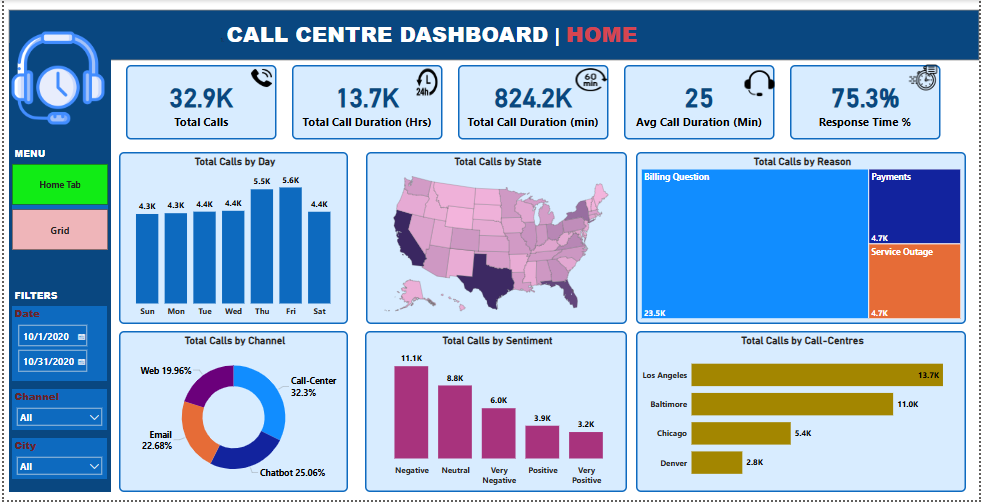

The dashboard page shown, as its layout file describes it:
{"tool":"powerbi","page":{"name":"Home Tab","canvas":[1950,1000],"ordinal":0},"visuals":[{"type":"shape","box":[10,20,1940,100],"z":0},{"type":"shape","box":[10,86,204,898],"z":1000},{"type":"card","fields":{"Values":["Call Center_Call Center.Total Calls"]},"box":[243,130,300.6,149],"z":2000},{"type":"card","fields":{"Values":["Call Center_Call Center.Total Call Duration (Hrs)"]},"box":[575.1,130,300.6,149],"z":3000},{"type":"card","fields":{"Values":["Call Center_Call Center.Total Call Duration (min)"]},"box":[907.2,130,300.6,149],"z":4000},{"type":"card","fields":{"Values":["Call Center_Call Center.Avg Call Duration (Min)"]},"box":[1239.3,130,300.6,149.4],"z":5000},{"type":"card","fields":{"Values":["Call Center_Call Center.Response Time %"]},"box":[1571.4,130,300.6,149.4],"z":6000},{"type":"image","box":[486,129.6,57.6,52.2],"z":7000},{"type":"image","box":[1803.6,120.6,68.4,70.2],"z":8000},{"type":"image","box":[820.8,129.6,52.2,68.4],"z":9000},{"type":"image","box":[1137.6,129.6,73.8,59.4],"z":10000},{"type":"image","box":[1476,133.2,70.2,64.8],"z":11000},{"type":"textbox","box":[422,32,896,74],"z":12000},{"type":"columnChart","fields":{"Category":["Date Table.Day"],"Y":["Call Center_Call Center.Total Calls"]},"box":[230,304,458,344],"z":13000},{"type":"shapeMap","fields":{"Category":["Call Center_Call Center.State"],"Value":["Call Center_Call Center.Total Calls"]},"box":[724,304,522,344],"z":14000},{"type":"treemap","fields":{"Group":["Call Center_Call Center.Reason"],"Values":["Call Center_Call Center.Total Calls"]},"box":[1264,304,660,344],"z":15000},{"type":"donutChart","fields":{"Category":["Call Center_Call Center.Channel"],"Y":["Call Center_Call Center.Total Calls"]},"box":[230,662,458,322],"z":16000},{"type":"columnChart","fields":{"Category":["Call Center_Call Center.Sentiment"],"Y":["Call Center_Call Center.Total Calls"]},"box":[722,662,524,322],"z":17000},{"type":"barChart","title":"Total Calls by Call-Centres ","fields":{"Category":["Call Center_Call Center.Call-Centres City"],"Y":["Call Center_Call Center.Total Calls"]},"box":[1264,662,660,322],"z":18000},{"type":"slicer","title":"Date","fields":{"Values":["Date Table.Date"]},"box":[16,612,190,150],"z":19000},{"type":"image","box":[10,32,196,248],"z":20000},{"type":"slicer","title":"Channel","fields":{"Values":["Call Center_Call Center.Channel"]},"box":[16,778,190,82],"z":21000},{"type":"slicer","title":"City","fields":{"Values":["Call Center_Call Center.City"]},"box":[16,876,190,82],"z":22000},{"type":"pageNavigator","box":[16,328,192,172],"z":23000},{"type":"textbox","box":[16,288,96,48],"z":24000},{"type":"textbox","box":[16,572,164,40],"z":24001}]}

Visuals, with their boxes in screenshot pixels (x1, y1, x2, y2), scaled from the page's 1950x1000 canvas onto the 981x503 screenshot:
shape: [x1=5, y1=10, x2=980, y2=60]
shape: [x1=5, y1=43, x2=108, y2=495]
card - Call Center_Call Center.Total Calls: [x1=122, y1=65, x2=273, y2=140]
card - Call Center_Call Center.Total Call Duration (Hrs): [x1=289, y1=65, x2=441, y2=140]
card - Call Center_Call Center.Total Call Duration (min): [x1=456, y1=65, x2=608, y2=140]
card - Call Center_Call Center.Avg Call Duration (Min): [x1=623, y1=65, x2=775, y2=141]
card - Call Center_Call Center.Response Time %: [x1=791, y1=65, x2=942, y2=141]
image: [x1=244, y1=65, x2=273, y2=91]
image: [x1=907, y1=61, x2=942, y2=96]
image: [x1=413, y1=65, x2=439, y2=100]
image: [x1=572, y1=65, x2=609, y2=95]
image: [x1=743, y1=67, x2=778, y2=100]
textbox: [x1=212, y1=16, x2=663, y2=53]
columnChart - Date Table.Day x Call Center_Call Center.Total Calls: [x1=116, y1=153, x2=346, y2=326]
shapeMap - Call Center_Call Center.State x Call Center_Call Center.Total Calls: [x1=364, y1=153, x2=627, y2=326]
treemap - Call Center_Call Center.Reason x Call Center_Call Center.Total Calls: [x1=636, y1=153, x2=968, y2=326]
donutChart - Call Center_Call Center.Channel x Call Center_Call Center.Total Calls: [x1=116, y1=333, x2=346, y2=495]
columnChart - Call Center_Call Center.Sentiment x Call Center_Call Center.Total Calls: [x1=363, y1=333, x2=627, y2=495]
"Total Calls by Call-Centres " barChart: [x1=636, y1=333, x2=968, y2=495]
"Date" slicer: [x1=8, y1=308, x2=104, y2=383]
image: [x1=5, y1=16, x2=104, y2=141]
"Channel" slicer: [x1=8, y1=391, x2=104, y2=433]
"City" slicer: [x1=8, y1=441, x2=104, y2=482]
pageNavigator: [x1=8, y1=165, x2=105, y2=252]
textbox: [x1=8, y1=145, x2=56, y2=169]
textbox: [x1=8, y1=288, x2=91, y2=308]
